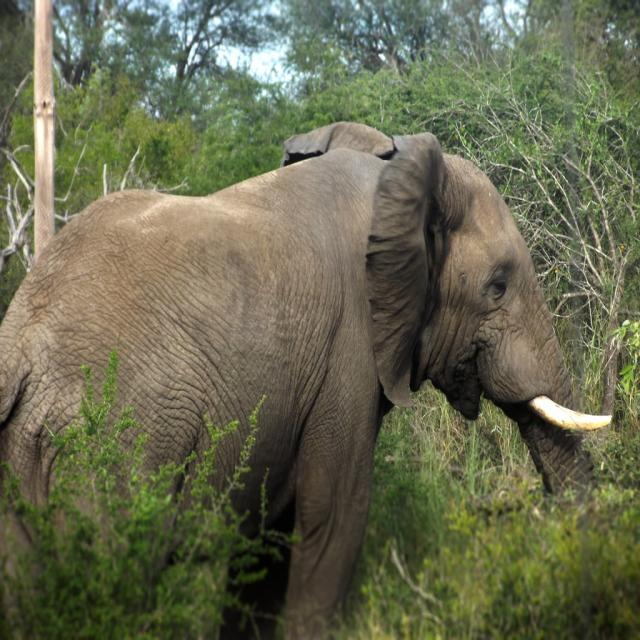Elephant: (0, 121, 613, 640)
